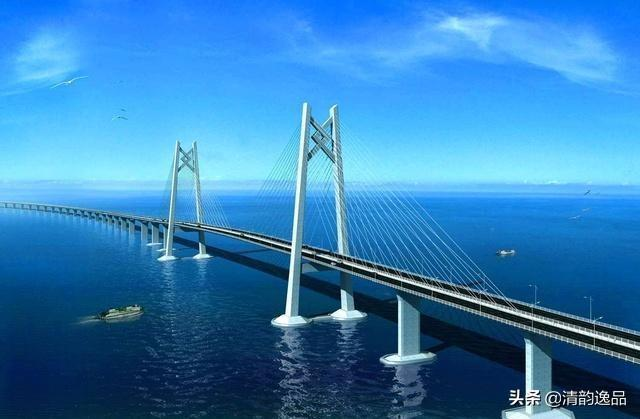sea_river: (75, 276, 287, 411)
sky_cloud: (0, 23, 636, 192), (272, 49, 635, 171)
